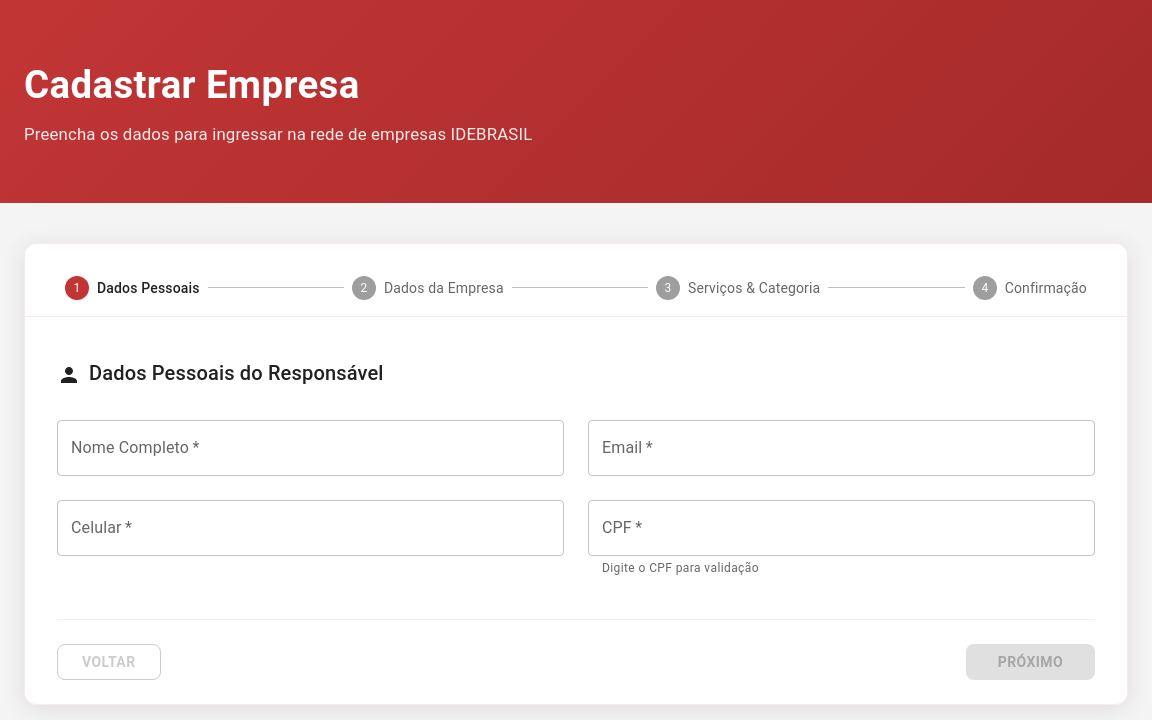
Scenario: EmpresaCadastro Component › deve mostrar erro para CPF não encontrado na base IDEBRASIL
This screenshot has width=1152, height=720.
Type "999.999.999-99" into the field labelled "CPF *" at (842, 528), box top-left (588, 500), bottom-right (1095, 556)
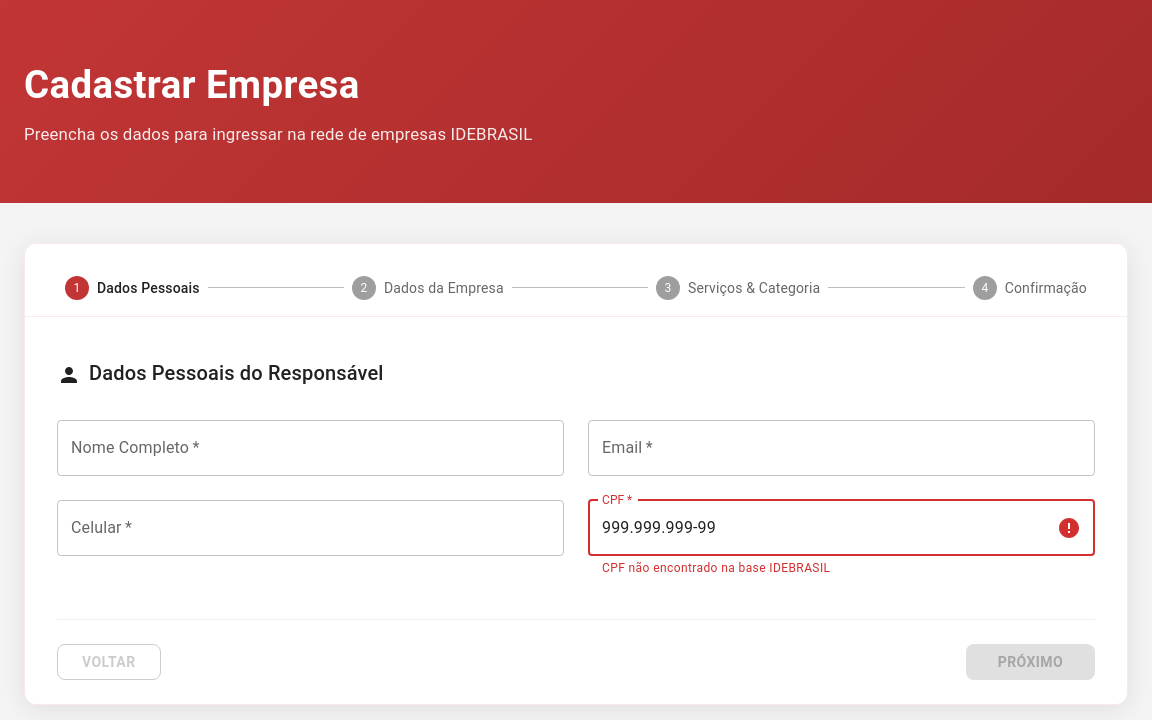
Expected: the button "Próximo" is disabled, top-left (966, 644), bottom-right (1095, 680)
Expected: the text "CPF não encontrado na base IDEBRASIL" is shown, top-left (602, 561), bottom-right (830, 575)
